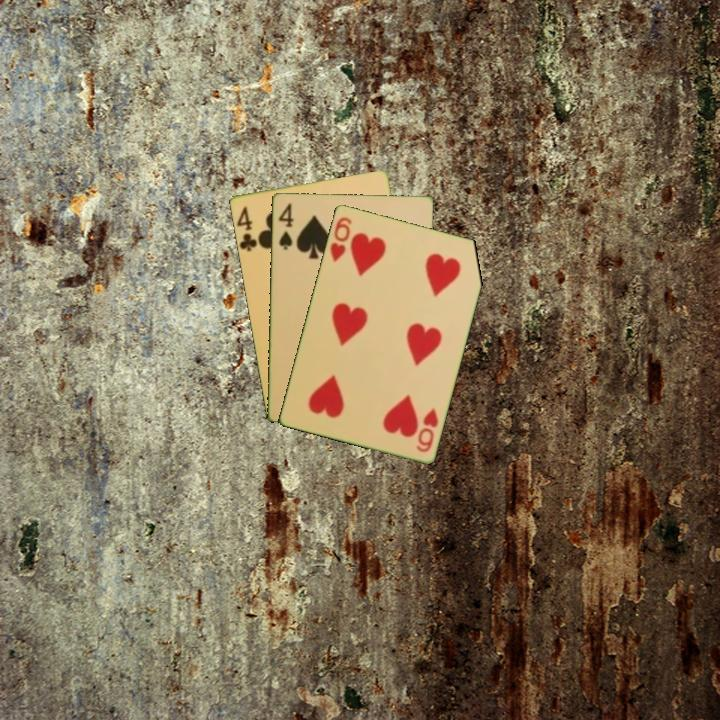4c: (233, 202, 260, 254)
4s: (275, 199, 296, 252)
6h: (326, 213, 354, 265), (412, 405, 441, 455)
